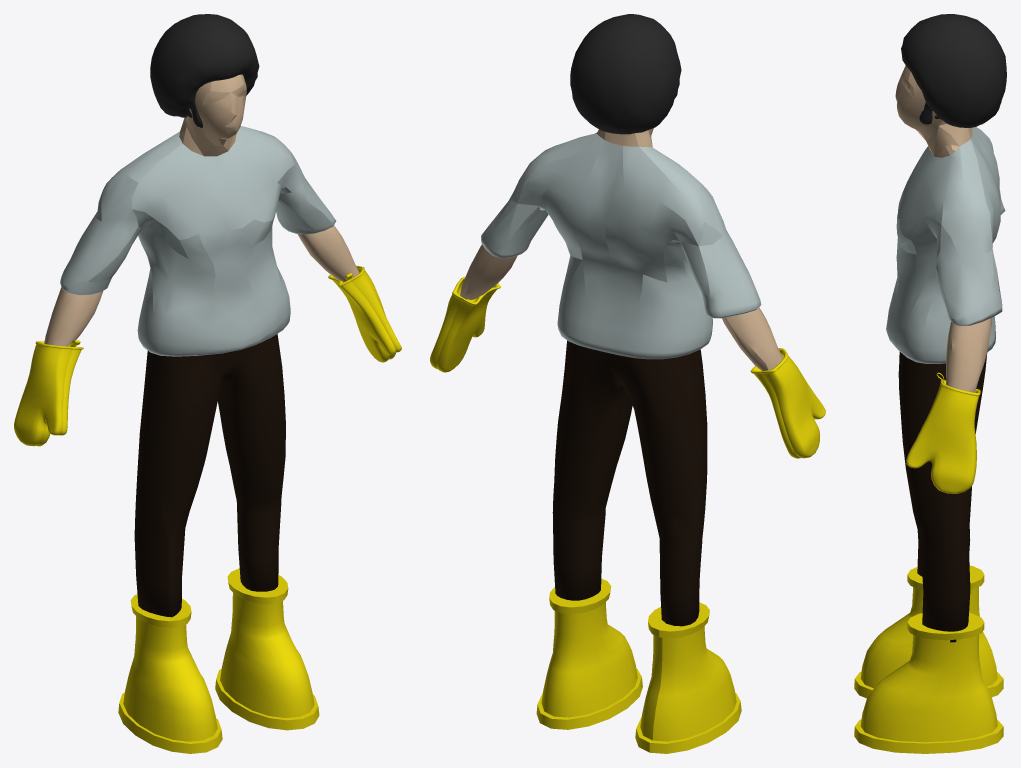
File: MP_Playermodel(Updated).fbx
3 views of the same model, side by side, from view 1: azimuth 30°, elevation 25°; view 2: azimuth 150°, elevation 25°; view 3: azimuth 270°, elevation 25° (orthographic).
Visible parts, largest first — view 1: PM_Shirt, PM_Pants, PM_Boots, PM_Skin, PM_Gloves, PM_Hair; view 2: PM_Shirt, PM_Pants, PM_Boots, PM_Hair, PM_Gloves, PM_Skin; view 3: PM_Shirt, PM_Boots, PM_Pants, PM_Hair, PM_Gloves, PM_Skin.
Part boxes in pixels (x1,y1,x2,y2): PM_Shirt: (60, 126, 336, 356); PM_Pants: (134, 334, 285, 617); PM_Boots: (118, 568, 319, 753); PM_Skin: (44, 74, 359, 346); PM_Gloves: (14, 265, 401, 446); PM_Hair: (150, 14, 259, 127); PM_Shirt: (481, 133, 761, 359); PM_Pants: (552, 340, 707, 626); PM_Boots: (536, 578, 741, 753); PM_Hair: (570, 14, 681, 134); PM_Gloves: (430, 276, 825, 458); PM_Skin: (460, 128, 783, 370); PM_Shirt: (886, 127, 1005, 363); PM_Boots: (854, 565, 1003, 753); PM_Pants: (898, 351, 986, 642); PM_Hair: (901, 14, 1006, 127); PM_Gloves: (906, 372, 980, 493); PM_Skin: (895, 65, 991, 392).
Bounding box in the file's own units: 97.89 × 175 × 34.83.
